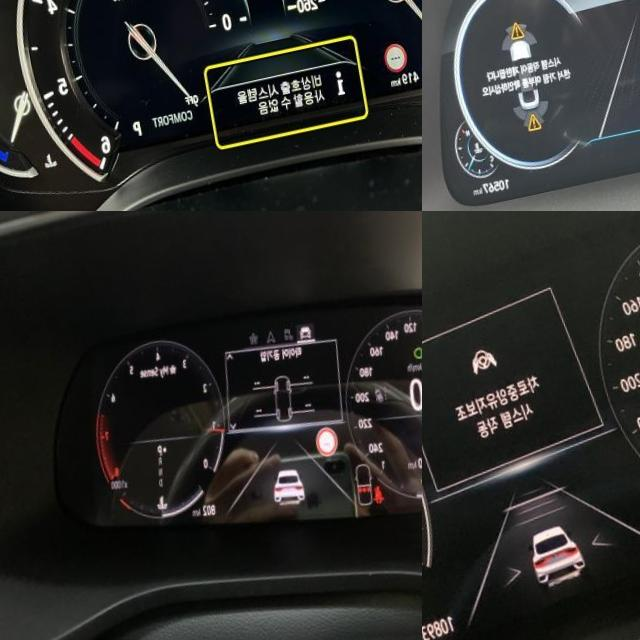Central Warning lamp: (512, 120, 529, 141), (499, 28, 515, 49)
Low beam: (401, 363, 418, 382)
SideLamp: (417, 363, 422, 378)
